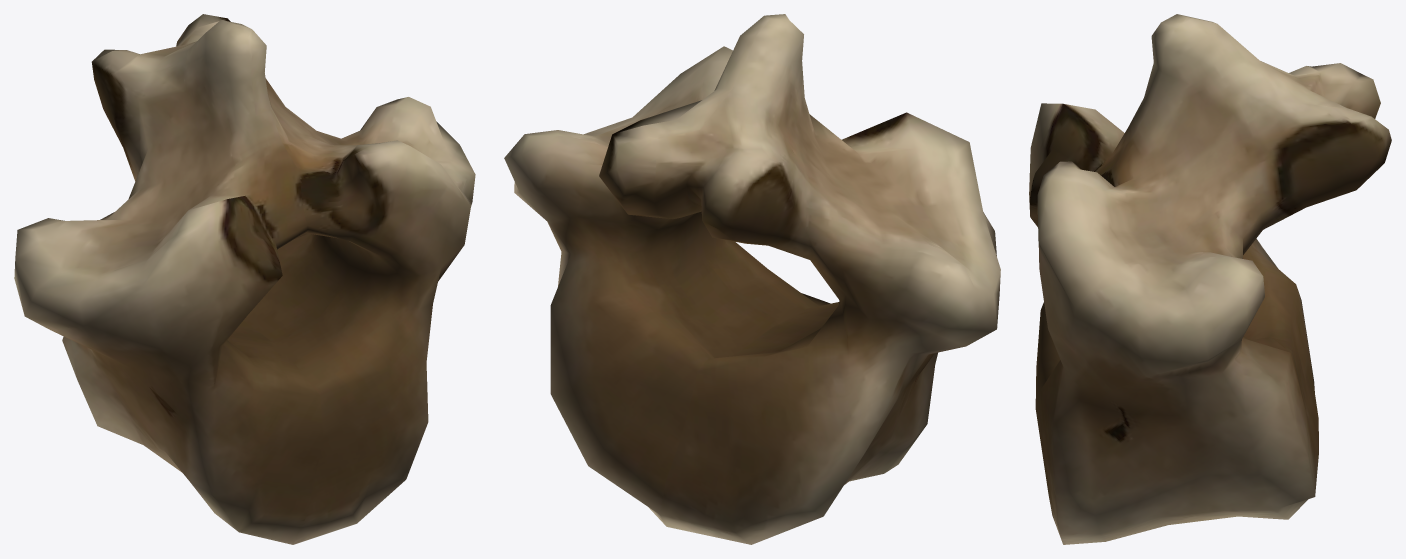
The model's file is Anticlinical_Vertebra.glb.
3 views of the same model, side by side, from view 1: azimuth 30°, elevation 25°; view 2: azimuth 150°, elevation 25°; view 3: azimuth 270°, elevation 25° (orthographic). The views are drawn at different scales.
Visible parts, largest first — view 1: Anticlinical_Vertebra1:Group62554; view 2: Anticlinical_Vertebra1:Group62554; view 3: Anticlinical_Vertebra1:Group62554.
Part boxes in pixels (x1,y1,x2,y2): Anticlinical_Vertebra1:Group62554: (14, 14, 475, 544); Anticlinical_Vertebra1:Group62554: (504, 14, 1000, 544); Anticlinical_Vertebra1:Group62554: (1029, 14, 1391, 544).
Bounding box in the file's own units: 28.41 × 29.11 × 19.16.
Materials: 1 (1 with a texture image).
